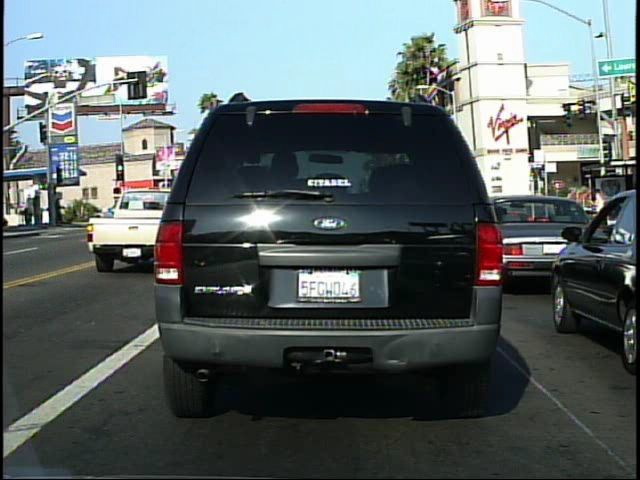person: (589, 185, 611, 242)
